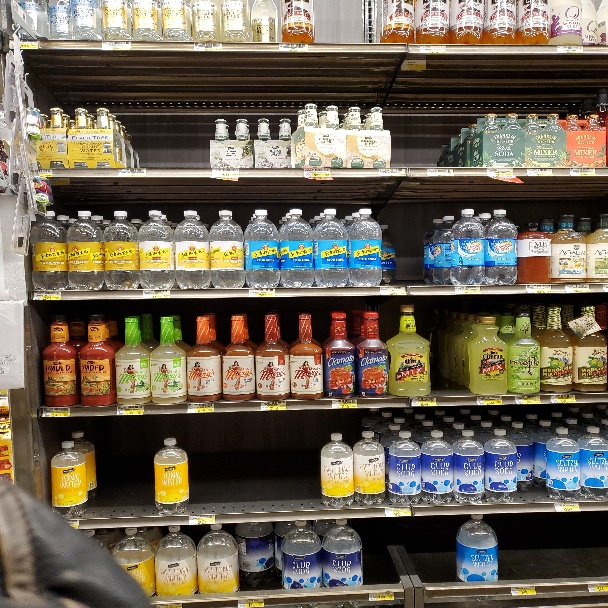All PRICE TAGS: (102, 40, 131, 50), (116, 405, 144, 415), (194, 42, 223, 51), (279, 43, 308, 52), (419, 45, 447, 54), (379, 286, 406, 295), (43, 407, 70, 416), (187, 404, 214, 413), (515, 395, 542, 404), (476, 396, 503, 405), (119, 168, 146, 177), (143, 289, 170, 298), (260, 401, 286, 410), (332, 399, 358, 408), (237, 599, 263, 608), (554, 503, 580, 512), (411, 397, 437, 406), (428, 168, 454, 177), (369, 591, 394, 600), (525, 285, 553, 293), (526, 168, 554, 176), (550, 395, 577, 403), (454, 286, 481, 294), (569, 168, 596, 176), (486, 168, 513, 176), (557, 46, 584, 54), (249, 288, 275, 296), (189, 515, 215, 523), (304, 168, 330, 176), (35, 291, 61, 299), (16, 38, 39, 47), (385, 508, 410, 516), (511, 587, 536, 595), (564, 285, 591, 292), (378, 169, 405, 176), (212, 169, 238, 176), (588, 584, 607, 592), (36, 169, 51, 177)
